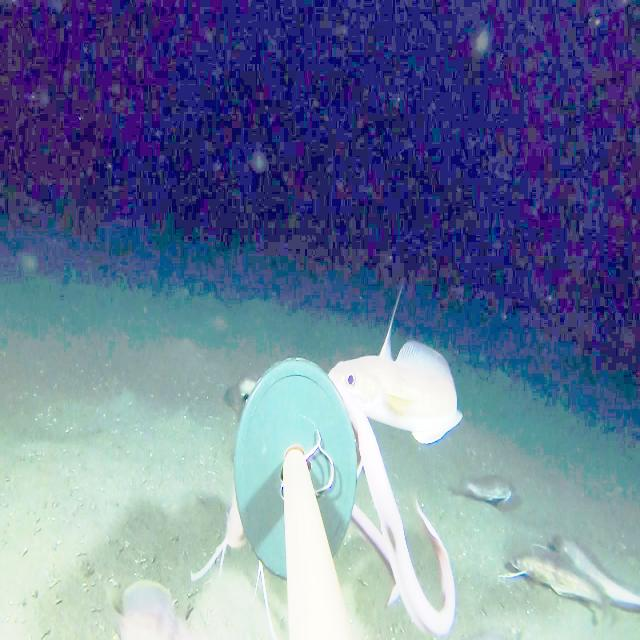eel: (328, 373, 472, 639), (344, 490, 412, 629)
fish: (328, 331, 468, 448), (495, 540, 639, 631), (203, 469, 272, 633), (99, 529, 193, 640), (457, 457, 525, 519), (219, 360, 275, 418)
pole: (238, 368, 362, 600)
